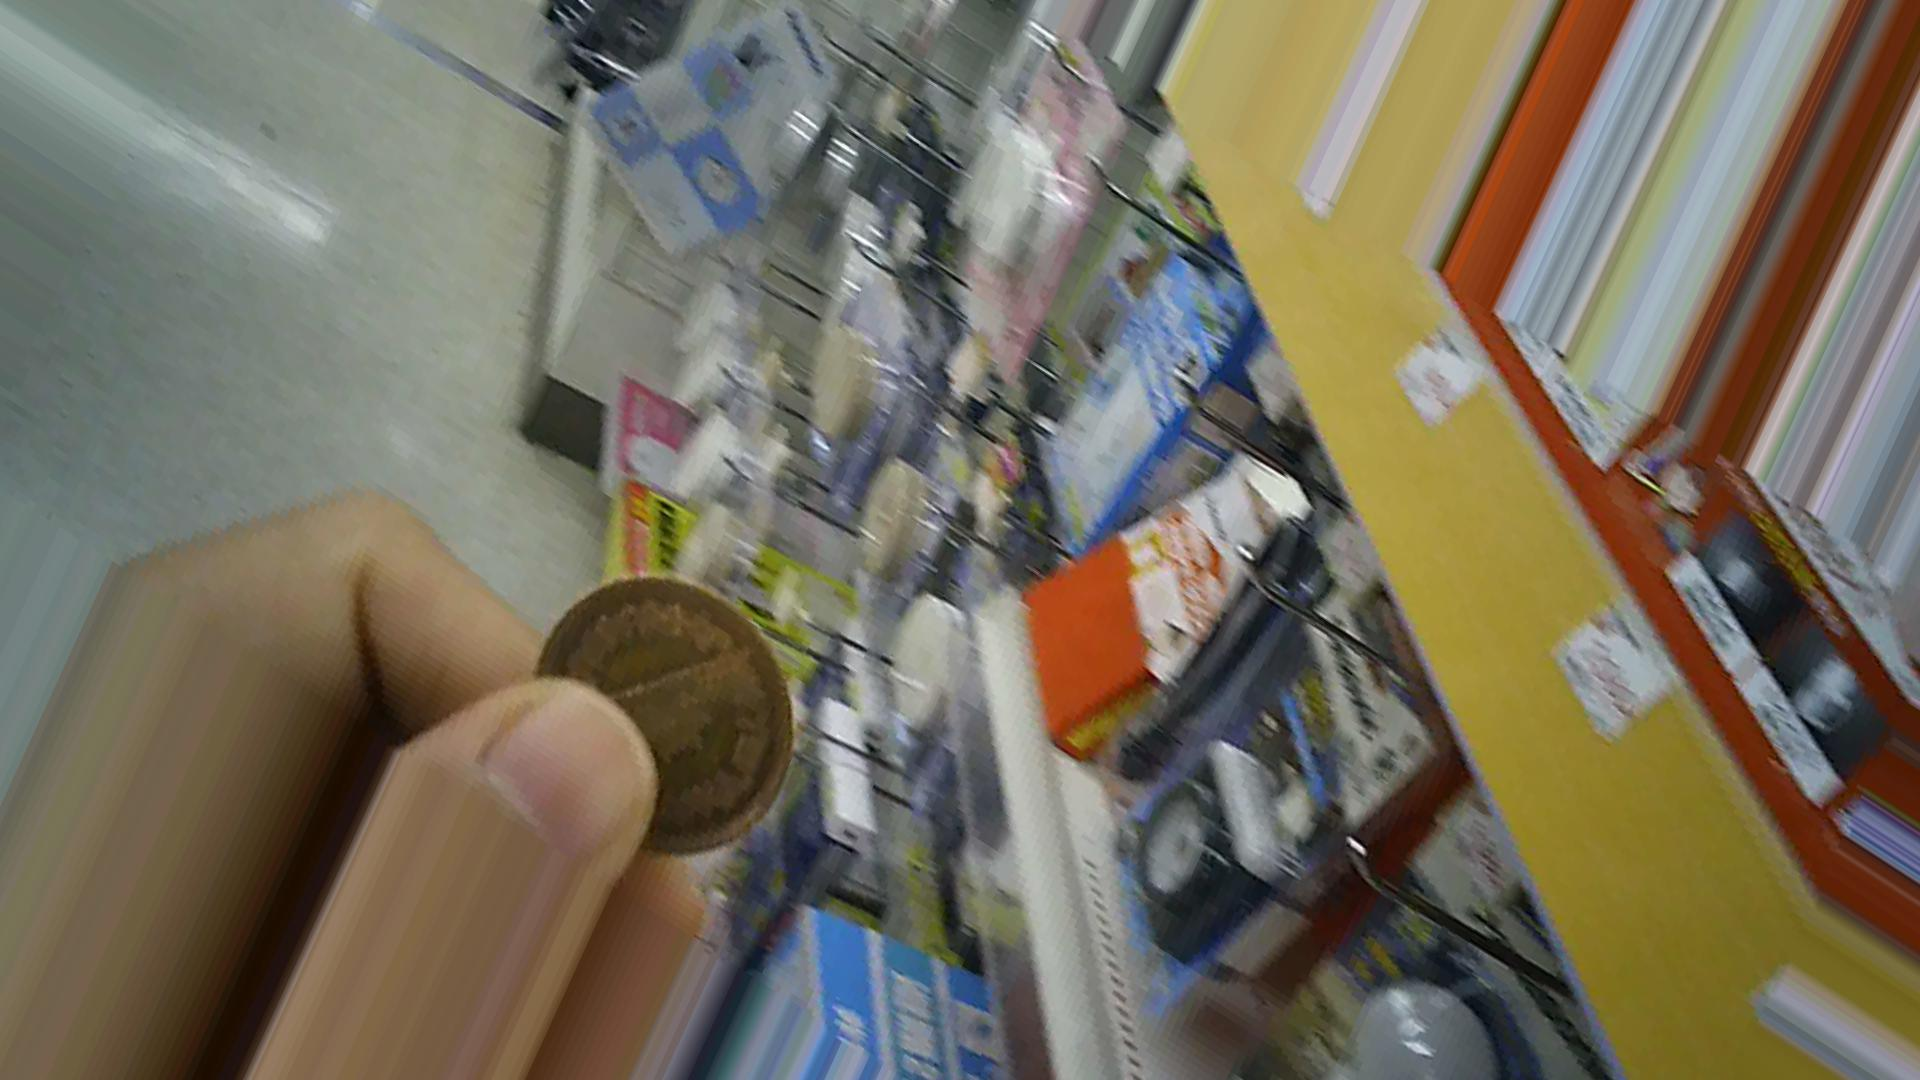10 Yen: (533, 575, 800, 860)
